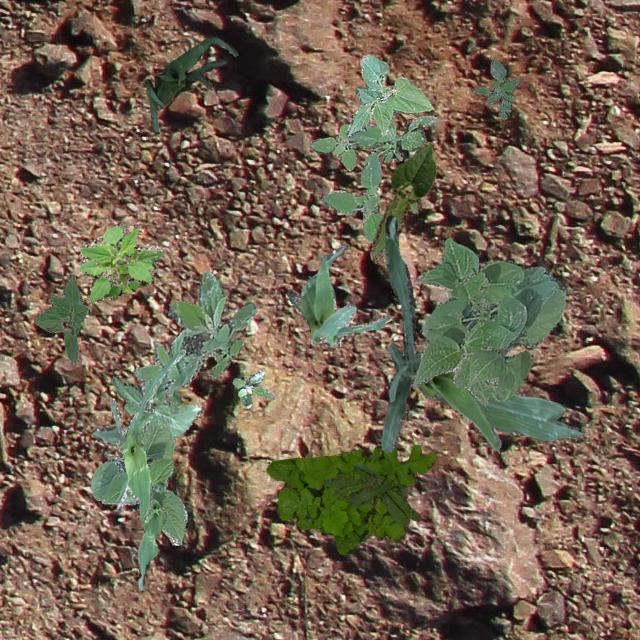crop: (380, 215, 584, 452), (412, 236, 564, 404), (109, 348, 184, 520), (90, 414, 186, 544), (286, 242, 389, 346), (144, 34, 236, 130), (368, 142, 436, 262), (92, 374, 202, 444), (346, 54, 430, 136), (34, 272, 88, 362), (124, 482, 164, 588)
weed: (266, 444, 436, 554), (132, 270, 255, 408), (309, 115, 435, 242), (78, 222, 162, 302), (322, 462, 420, 524), (472, 58, 518, 119), (232, 369, 274, 406)
